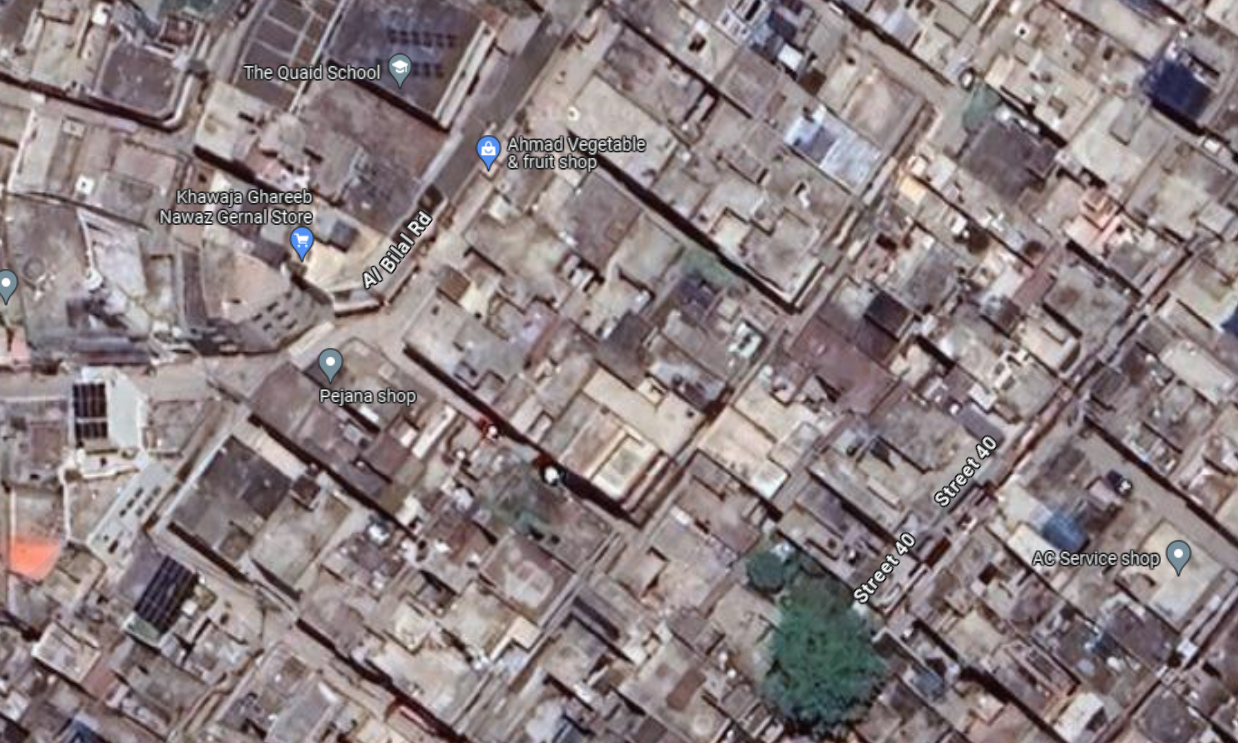solar-panel: (131, 557, 193, 623), (387, 26, 451, 83), (64, 381, 109, 443)
